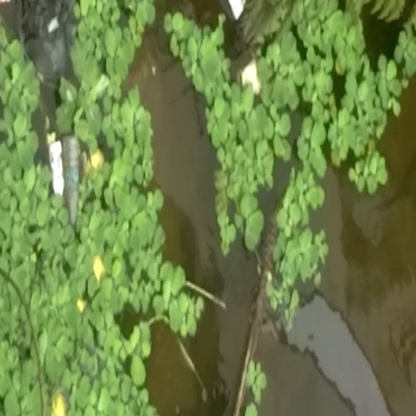bottle: (57, 131, 86, 221)
